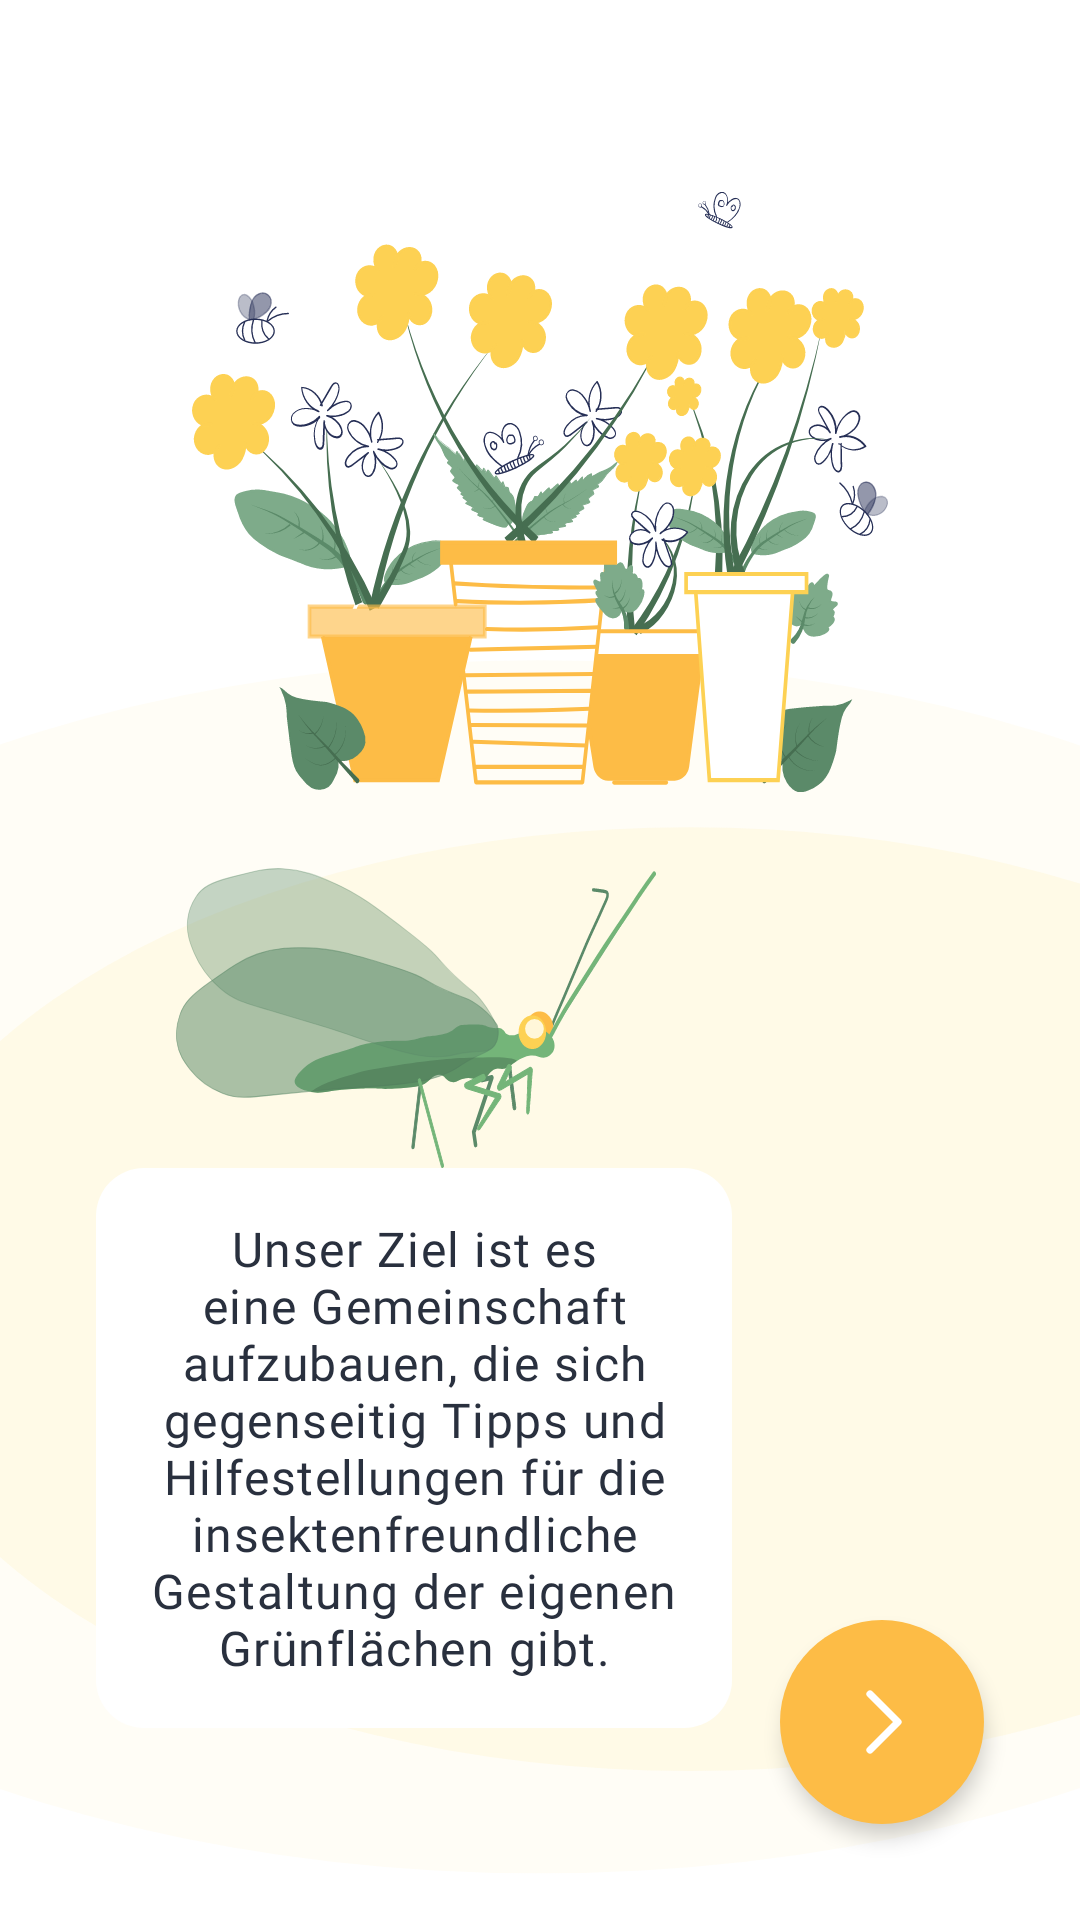

Screen size 1080 x 1920. Icon name, then its box in pixels as box(x1, y1, x2, y2):
right: box(780, 1620, 984, 1824)
